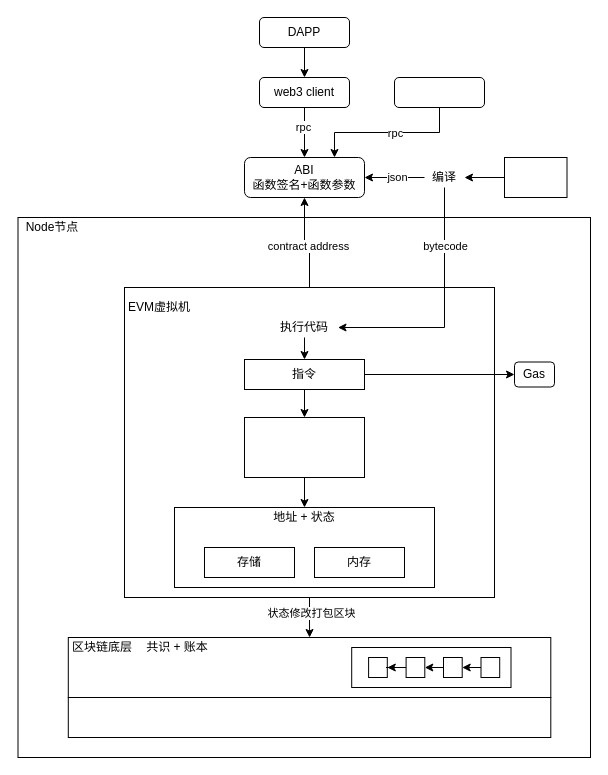
Some shapes in this 608 by 775 pixel diagram are drawn without their labels. The shapes that lost their labels are listed below. From the top down, each one's centre as x and y in pixels, then its label:
pixel 439 92: 其他合约
pixel 535 177: 合约
pixel 304 447: 堆栈
pixel 309 717: linux / window / macos
